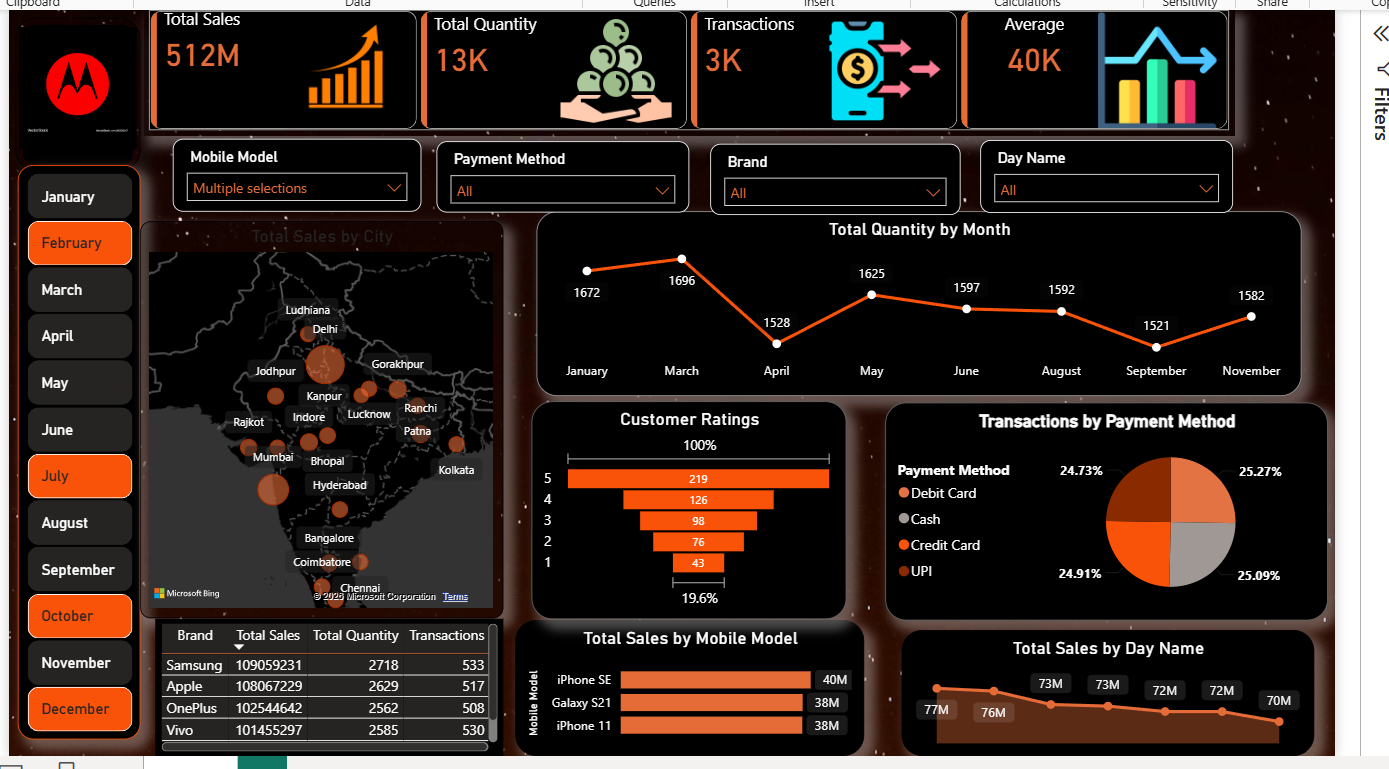

This screenshot's page, from the dashboard's own definition file:
{"tool":"powerbi","page":{"name":"Page 1","canvas":[1280,720],"ordinal":0},"visuals":[{"type":"shape","box":[5.5,6.9,120.8,148.2],"z":0},{"type":"image","box":[9.6,16.5,113.9,116.6],"z":1000},{"type":"shape","box":[8.6,150,118.6,554.3],"z":2000},{"type":"advancedSlicerVisual","fields":{"Values":["Sales_Data.Date.Variation.Date Hierarchy.Month"]},"box":[12.9,152.9,111.4,548.6],"z":3000},{"type":"cardVisual","fields":{"Data":["Sales_Data.Total Sales","Sales_Data.Total Quantity","Sales_Data.Transactions","Sales_Data.Average"]},"box":[130,0,1052.9,121.4],"z":4000},{"type":"map","fields":{"Category":["Sales_Data.City"],"Size":["Sales_Data.Total Sales"]},"box":[127.1,204.3,350,382.9],"z":5000},{"type":"lineChart","fields":{"Y":["Sales_Data.Total Quantity"],"Category":["Sales_Data.Date.Variation.Date Hierarchy.Month","Sales_Data.Date.Variation.Date Hierarchy.Day"]},"box":[508.6,194.3,738.6,178.6],"z":6000},{"type":"clusteredBarChart","fields":{"Category":["Sales_Data.Mobile Model"],"Y":["Sales_Data.Total Sales"]},"box":[488.6,588.6,337.1,131.4],"z":7000},{"type":"pieChart","fields":{"Category":["Sales_Data.Payment Method"],"Y":["Sales_Data.Transactions"]},"box":[845.7,378.6,427.1,210],"z":8000},{"type":"funnel","title":"Customer Ratings","fields":{"Category":["Sales_Data.Customer Ratings"],"Y":["CountNonNull(Sales_Data.Customer Ratings)"]},"box":[504.3,377.1,304.3,210],"z":9000},{"type":"areaChart","fields":{"Category":["Sales_Data.Day Name"],"Y":["Sales_Data.Total Sales"]},"box":[861.4,598.6,398.6,121.4],"z":10000},{"type":"tableEx","fields":{"Values":["Sales_Data.Brand","Sales_Data.Total Sales","Sales_Data.Total Quantity","Sales_Data.Transactions"]},"box":[141.4,587.1,335.7,132.9],"z":11000},{"type":"slicer","fields":{"Values":["Sales_Data.Mobile Model"]},"box":[158.6,124.3,240,70],"z":12000},{"type":"slicer","fields":{"Values":["Sales_Data.Payment Method"]},"box":[412.9,127.1,244.3,68.6],"z":13000},{"type":"slicer","fields":{"Values":["Sales_Data.Brand"]},"box":[677.1,128.6,241.4,68.6],"z":14000},{"type":"slicer","fields":{"Values":["Sales_Data.Day Name"]},"box":[937.1,125.7,244.3,70],"z":15000}]}

Visuals, with their boxes in screenshot pixels (x1, y1, x2, y2):
shape: (left=2, top=7, right=130, bottom=164)
image: (left=7, top=17, right=127, bottom=140)
shape: (left=5, top=158, right=131, bottom=743)
advancedSlicerVisual - Sales_Data.Date.Variation.Date Hierarchy.Month: (left=10, top=161, right=128, bottom=740)
cardVisual - Sales_Data.Total Sales x Sales_Data.Total Quantity: (left=134, top=0, right=1245, bottom=128)
map - Sales_Data.City x Sales_Data.Total Sales: (left=131, top=216, right=500, bottom=620)
lineChart - Sales_Data.Total Quantity x Sales_Data.Date.Variation.Date Hierarchy.Month: (left=533, top=205, right=1313, bottom=394)
clusteredBarChart - Sales_Data.Mobile Model x Sales_Data.Total Sales: (left=512, top=621, right=868, bottom=760)
pieChart - Sales_Data.Payment Method x Sales_Data.Transactions: (left=889, top=400, right=1340, bottom=621)
"Customer Ratings" funnel: (left=529, top=398, right=850, bottom=620)
areaChart - Sales_Data.Day Name x Sales_Data.Total Sales: (left=905, top=632, right=1326, bottom=760)
tableEx - Sales_Data.Brand x Sales_Data.Total Sales: (left=146, top=620, right=500, bottom=760)
slicer - Sales_Data.Mobile Model: (left=164, top=131, right=417, bottom=205)
slicer - Sales_Data.Payment Method: (left=432, top=134, right=690, bottom=207)
slicer - Sales_Data.Brand: (left=711, top=136, right=966, bottom=208)
slicer - Sales_Data.Day Name: (left=985, top=133, right=1243, bottom=207)
